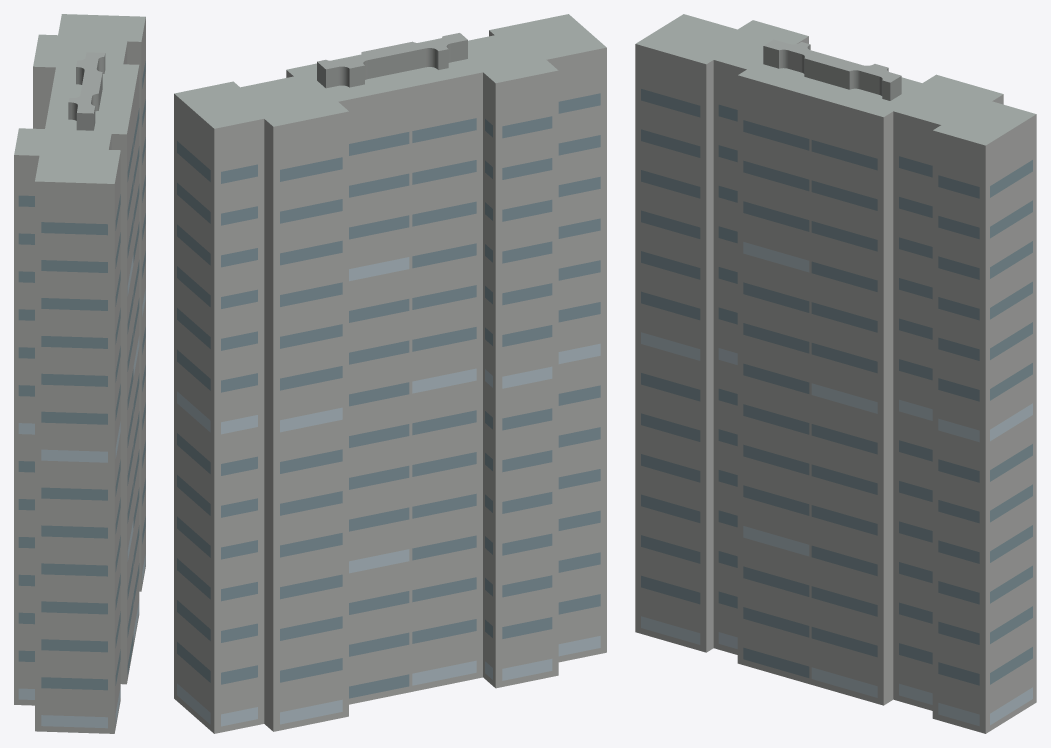
The model's file is fallback-lake-palace-115.glb.
The picture shows the model from 3 angles, left to right: view 1: azimuth 30°, elevation 25°; view 2: azimuth 150°, elevation 25°; view 3: azimuth 270°, elevation 25°; orthographic projection. The views are drawn at different scales.
Visible parts, largest first — view 1: fallback-lake-palace-115; view 2: fallback-lake-palace-115; view 3: fallback-lake-palace-115.
Part boxes in pixels (x1=…): fallback-lake-palace-115: x1=14, y1=14, x2=145, y2=733; fallback-lake-palace-115: x1=174, y1=14, x2=606, y2=733; fallback-lake-palace-115: x1=635, y1=14, x2=1036, y2=733.
Bounding box in the file's own units: 36.75 × 79 × 47.33.
